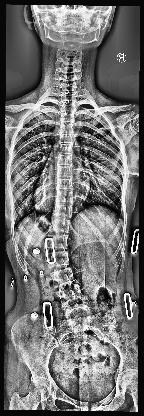Vertebrae: (50, 268, 78, 288), (58, 284, 86, 304), (64, 303, 92, 319), (48, 234, 70, 250), (48, 252, 70, 268), (48, 219, 72, 233), (54, 190, 76, 204), (51, 204, 73, 218), (55, 177, 75, 191), (58, 142, 76, 156), (55, 166, 75, 178), (58, 122, 76, 134), (56, 155, 74, 167), (61, 102, 77, 114), (59, 112, 75, 124), (60, 135, 76, 145)
